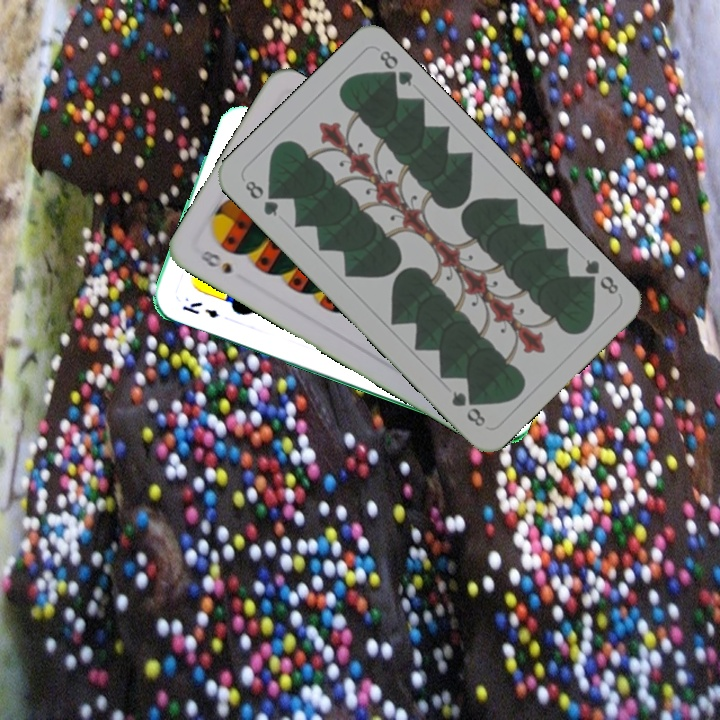EK: (178, 298, 221, 321)
G8: (577, 254, 621, 297), (240, 176, 282, 220)
S8: (195, 246, 235, 277)
